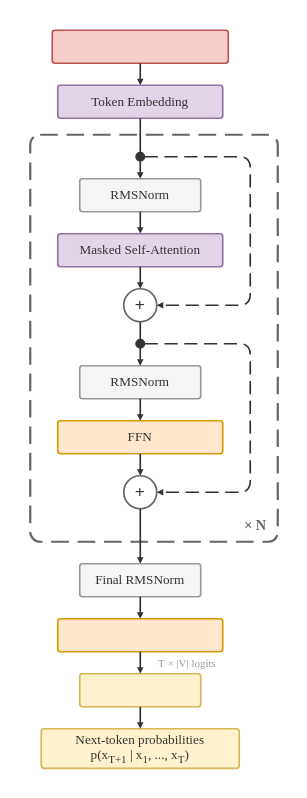
Image size: 307x798. Some labels were removed from this diagram. The shapes that lost their labels are listed below. From the top down, each one's centre as x and y in pixels, then its label:
At [140,46]: "Input tokens x 1 , ..., x T".
At [139,634]: "LM Head (Linear)".
At [139,689]: "Softmax".
